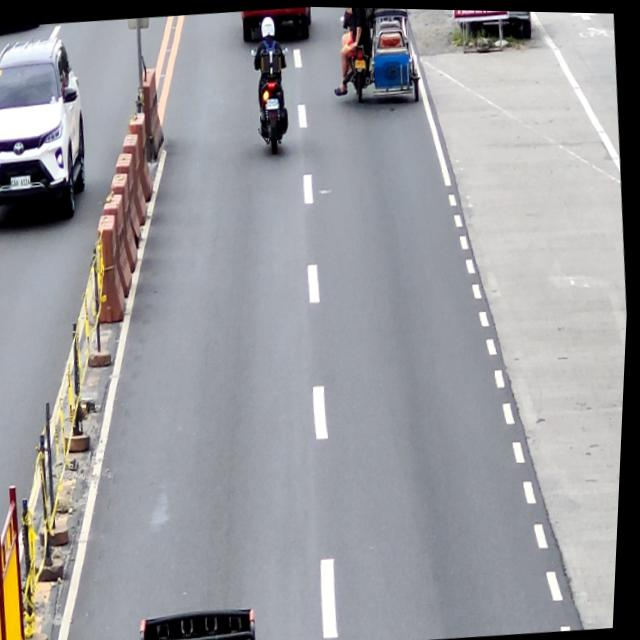License-Plate: (265, 96, 280, 108), (354, 56, 367, 68)
Motorcycle: (248, 44, 298, 157)
Tricycle: (336, 6, 424, 104)
